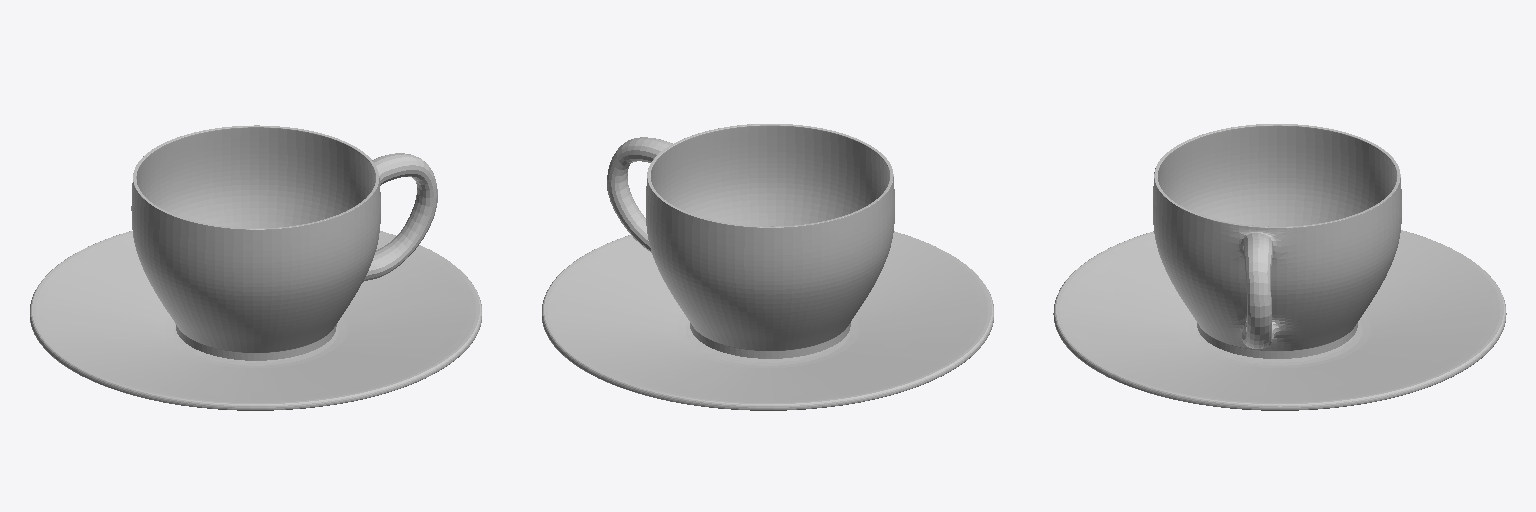
Rendered from coffeeCup.obj.
3 renders of one model, left to right at view 1: azimuth 30°, elevation 25°; view 2: azimuth 150°, elevation 25°; view 3: azimuth 270°, elevation 25°, orthographic.
Parts seen in each view (by area): view 1: pCylinder3, pCylinder2; view 2: pCylinder3, pCylinder2; view 3: pCylinder3, pCylinder2.
Part boxes in pixels (left/top/right/bottom): pCylinder3: left=131, top=125, right=437, bottom=360; pCylinder2: left=30, top=231, right=481, bottom=410; pCylinder3: left=607, top=124, right=894, bottom=358; pCylinder2: left=542, top=231, right=993, bottom=410; pCylinder3: left=1153, top=124, right=1401, bottom=358; pCylinder2: left=1053, top=230, right=1506, bottom=410.
Bounding box in the file's own units: 5.96 × 2.31 × 5.96.